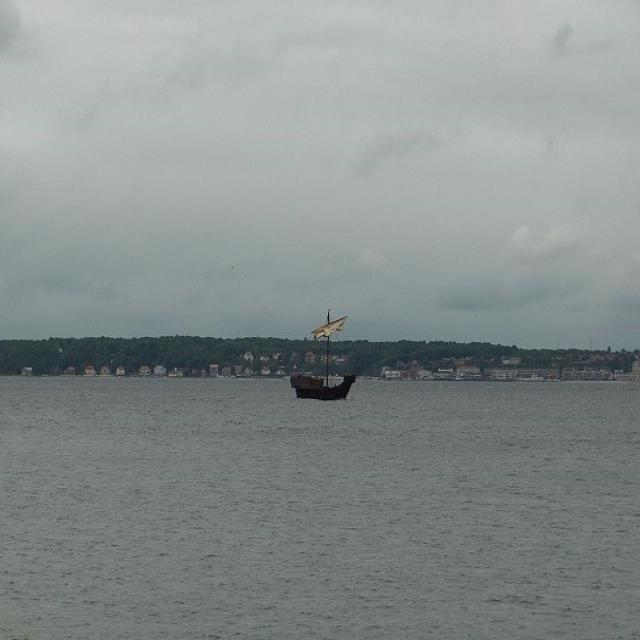fishing boat: (282, 308, 362, 404)
